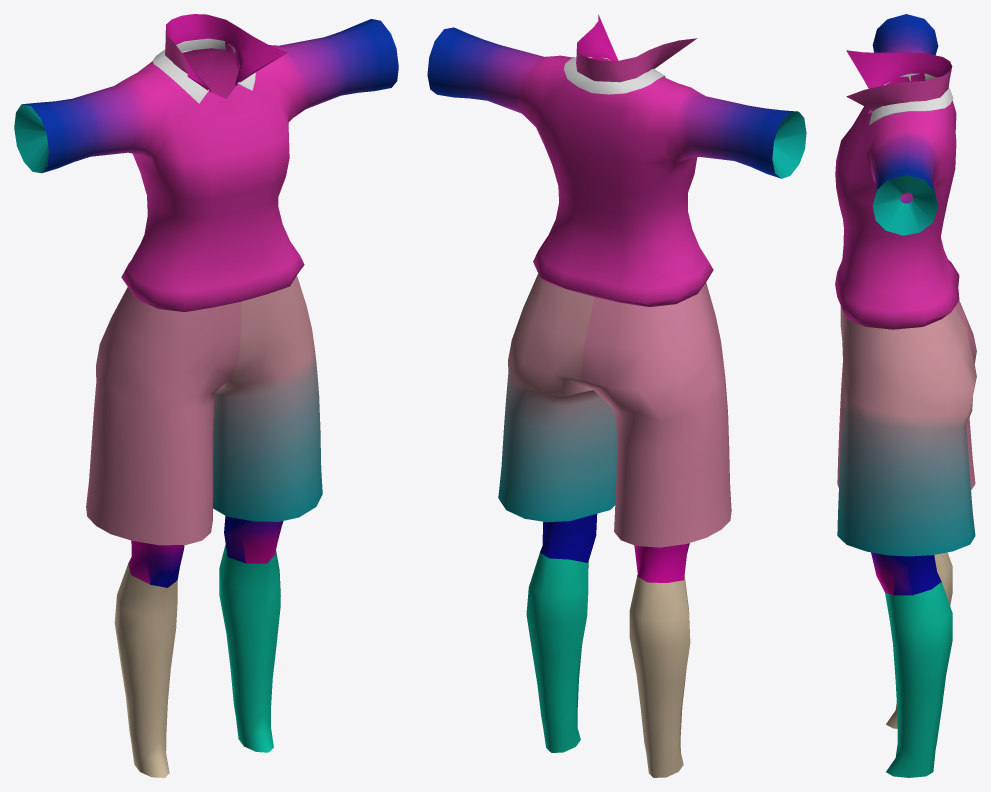
Rendered from 00_StandardFemale.fbx.
The picture shows the model from 3 angles, left to right: view 1: azimuth 30°, elevation 25°; view 2: azimuth 150°, elevation 25°; view 3: azimuth 270°, elevation 25°; orthographic projection. The views are drawn at different scales.
Visible parts, largest first — view 1: u000102_30, u000102_20, collar_11, collar_10; view 2: u000102_30, u000102_20, collar_11, collar_10; view 3: u000102_30, u000102_20, collar_11, collar_10.
Boxes of the visible parts, x1,y1,x2,y2 form: u000102_30: (86, 275, 322, 777); u000102_20: (14, 19, 398, 311); collar_11: (165, 14, 287, 91); collar_10: (152, 38, 255, 103); u000102_30: (498, 274, 731, 777); u000102_20: (427, 27, 806, 306); collar_11: (576, 14, 696, 82); collar_10: (564, 57, 665, 94); u000102_30: (837, 301, 976, 777); u000102_20: (835, 14, 959, 329); collar_11: (846, 50, 952, 111); collar_10: (869, 73, 953, 124).
Bounding box in the file's own units: 61.48 × 122 × 22.91.
